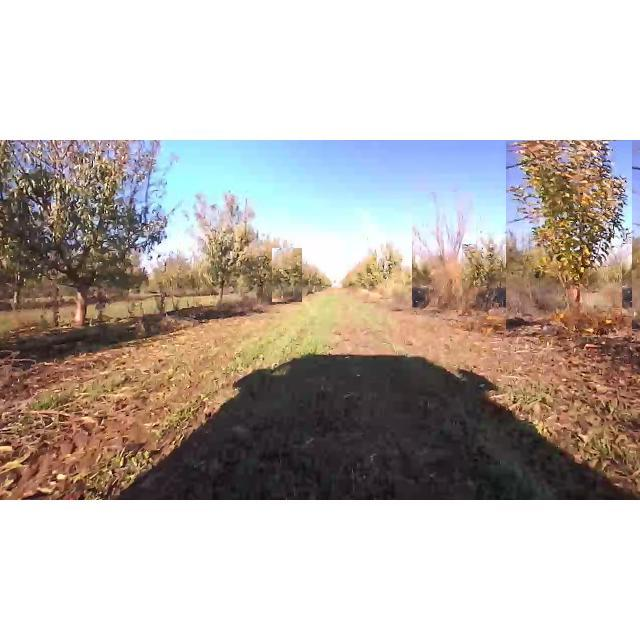direk: (1, 142, 183, 336), (506, 141, 632, 337), (180, 192, 260, 314), (412, 192, 476, 310), (462, 244, 516, 316), (242, 232, 282, 308), (272, 248, 302, 302), (369, 238, 399, 290)
